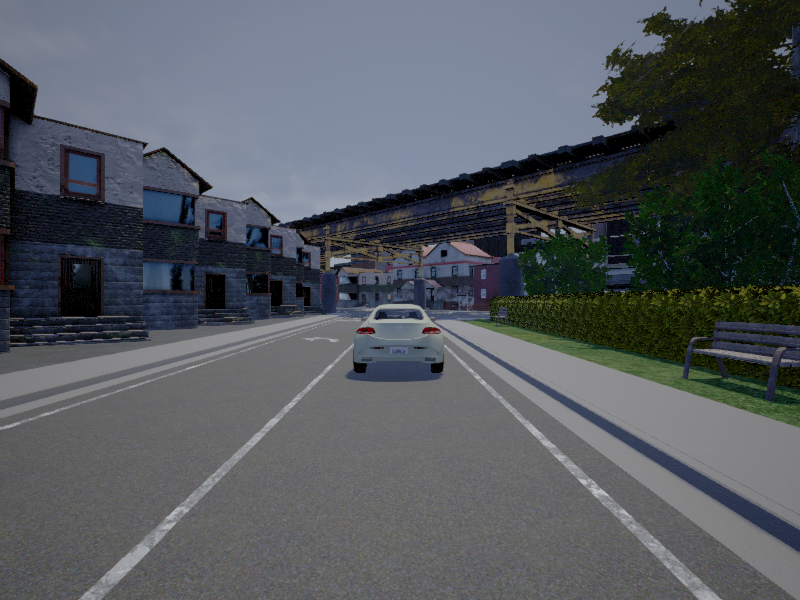Benign: (355, 304, 444, 376)
